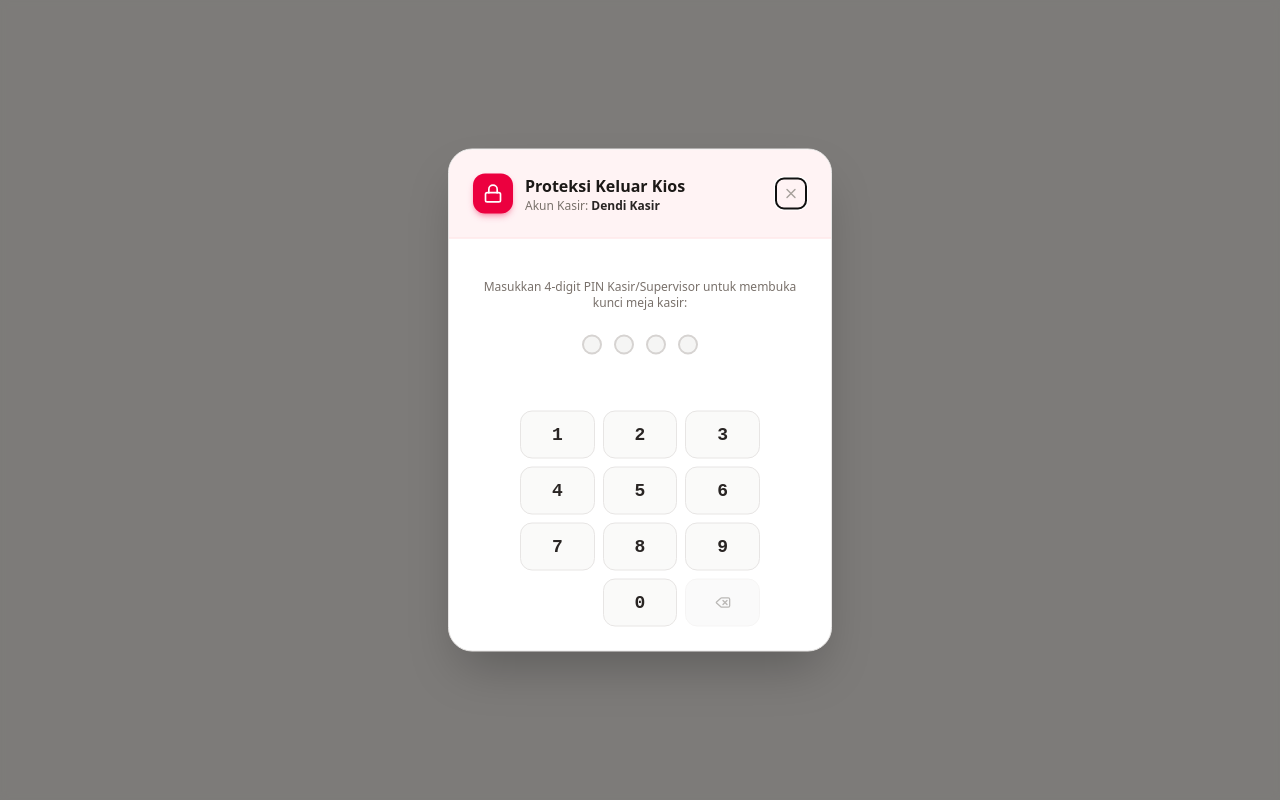
Test case: KioskExitDialog Component › stays locked when the backend says the PIN is wrong
Click the button "1": {"x": 557, "y": 434} top-left (520, 410), bottom-right (595, 458)
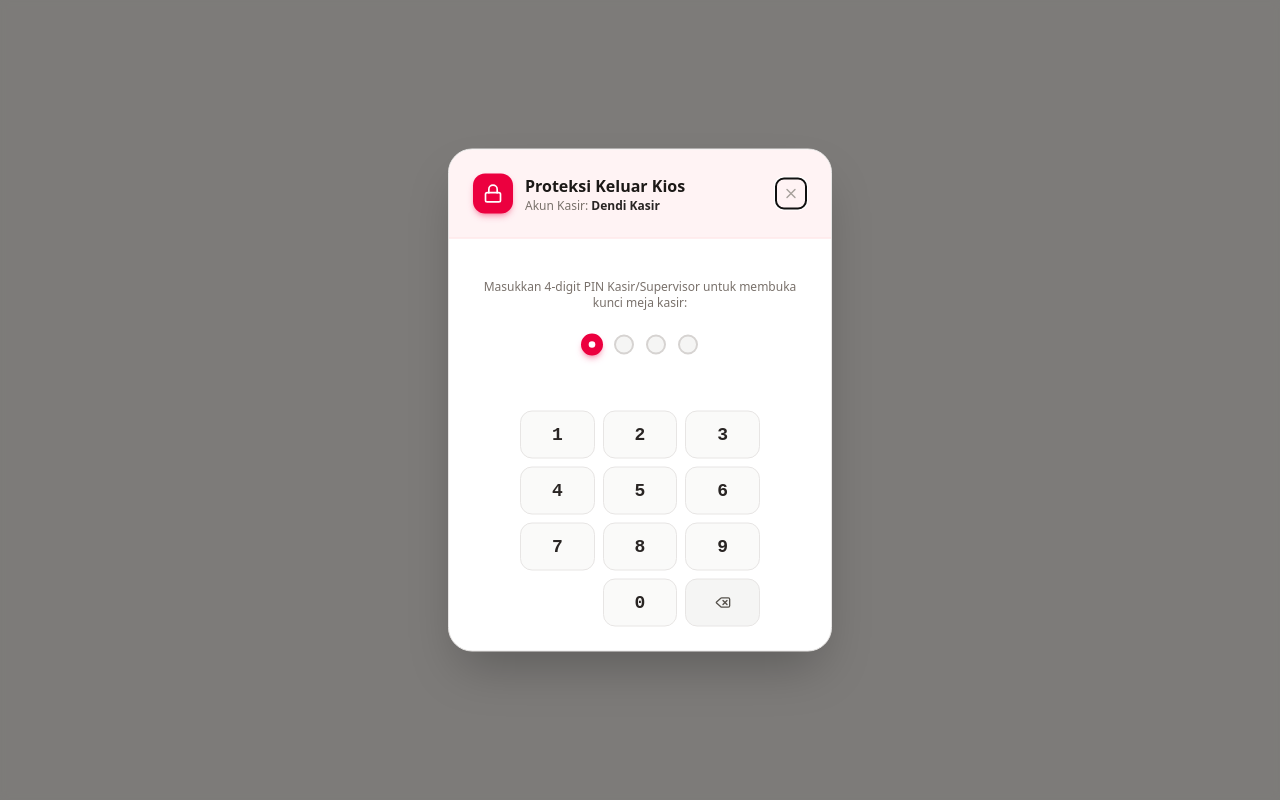
Click the button "2": {"x": 640, "y": 434} top-left (603, 410), bottom-right (677, 458)
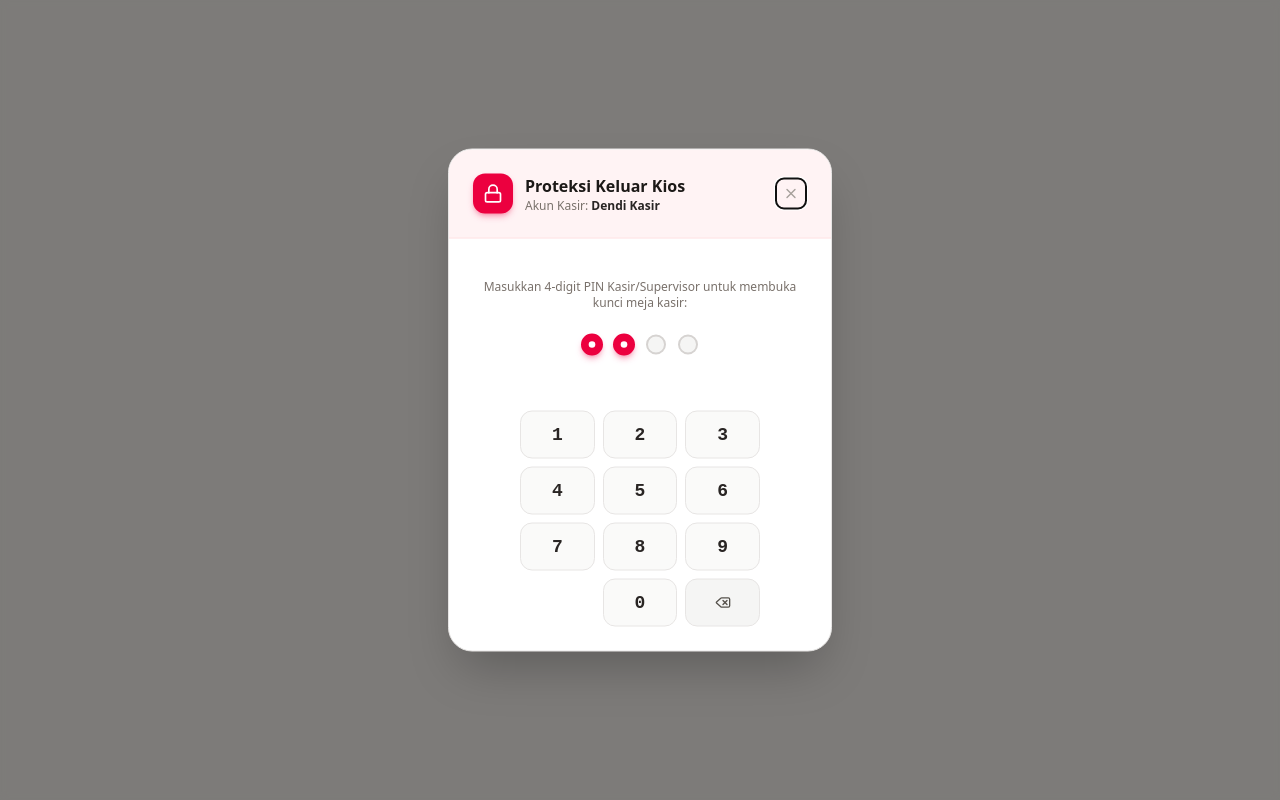
Click the button "3": {"x": 723, "y": 434} top-left (685, 410), bottom-right (760, 458)
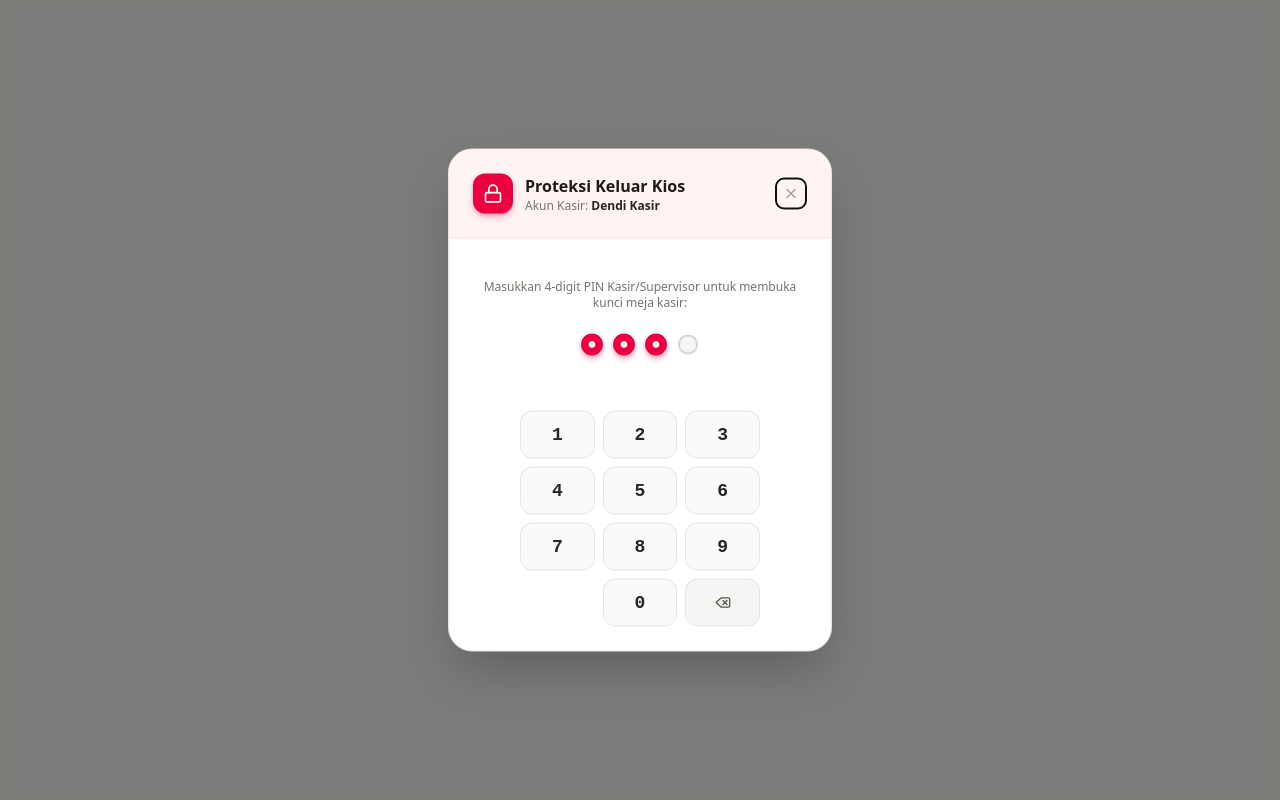
Click the button "4": {"x": 557, "y": 490} top-left (520, 466), bottom-right (595, 514)
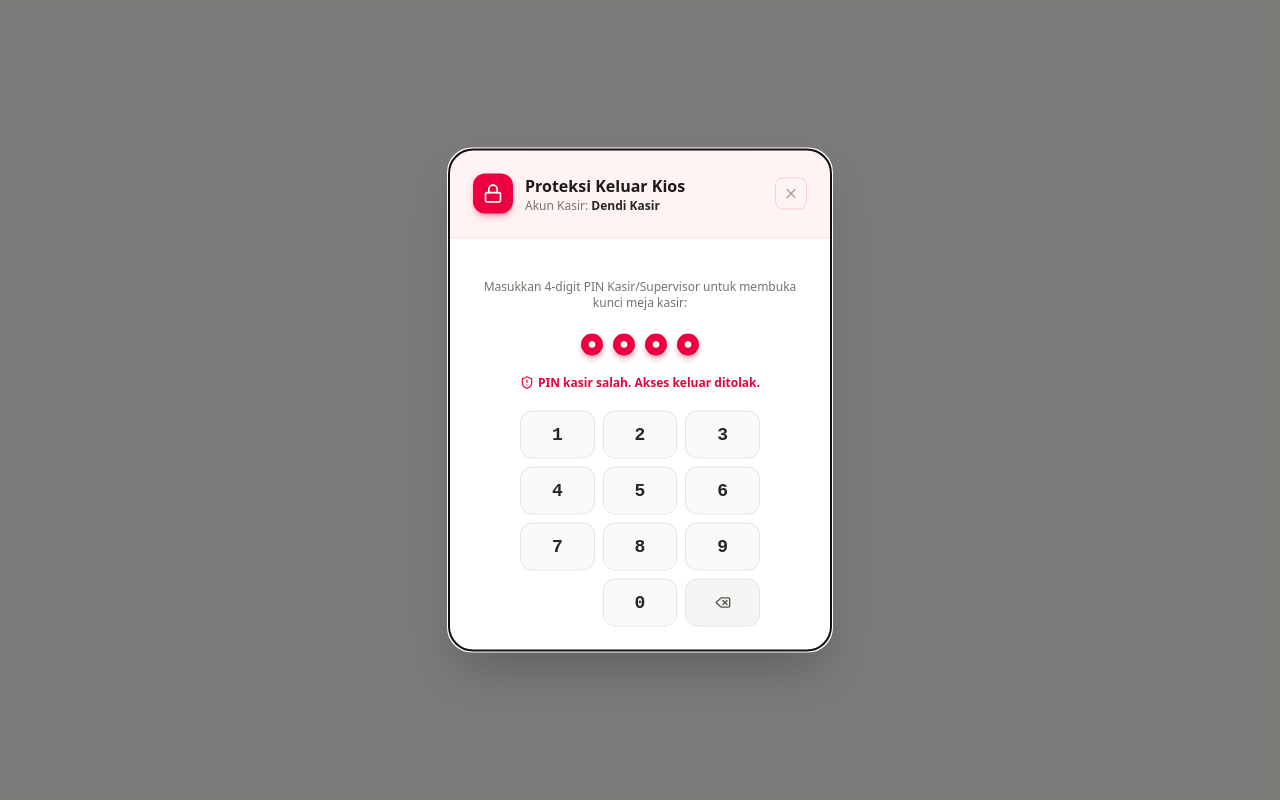
Expected: the text "PIN kasir salah. Akses keluar ditolak." is shown, top-left (520, 374), bottom-right (760, 390)
